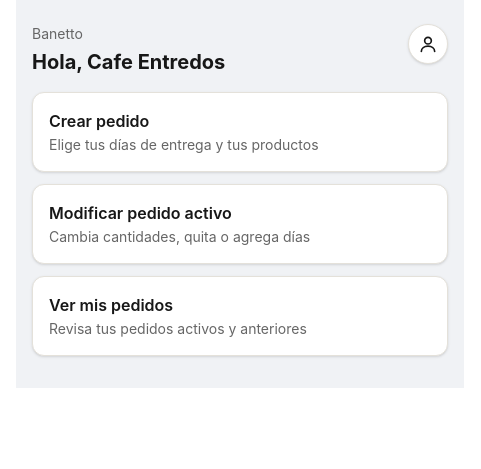
Test case: menú: botón de cuenta › un solo cliente: el menú solo trae «Cerrar sesión»
expect the text "Cerrar sesión" is not shown: met
Click the button named "Tu cuenta": coordinates (428, 44) x1=408 y1=24 x2=448 y2=64
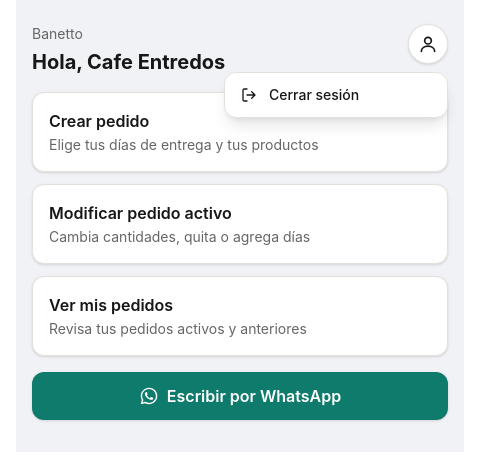
expect the menu item "Cerrar sesión" is shown: met, box x1=225 y1=73 x2=447 y2=117
